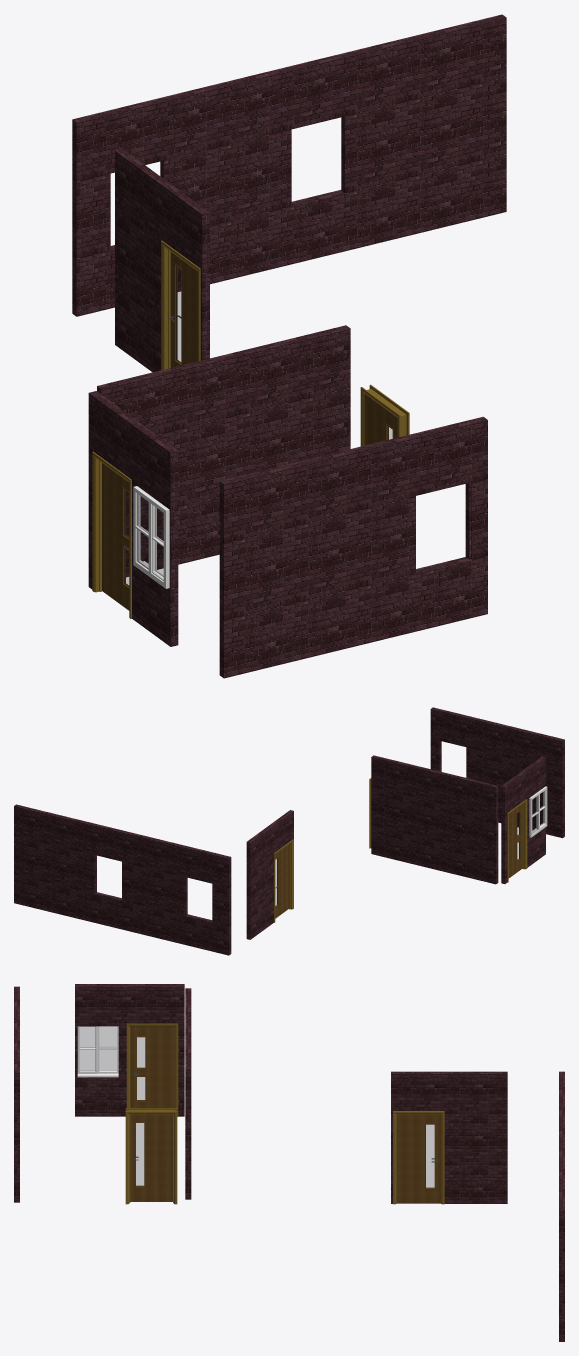
3 views of the same model, one above another, from view 1: azimuth 30°, elevation 25°; view 2: azimuth 150°, elevation 25°; view 3: azimuth 270°, elevation 25° (orthographic). The views are drawn at different scales.
Parts seen in each view (by area): view 1: Basic Wall Wall-Ext_215Bwk [620913]001, Basic Wall Wall-Ext_215Bwk [353285]001, Basic Wall Wall-Ext_215Bwk [353021]001, Basic Wall Wall-Ext_215Bwk [620583]001, Basic Wall Wall-Ext_215Bwk [353094]001, Doors_IntSgl_3 1010x2110mm [627399]001, Doors_IntSgl_2 1010x2110mm [621646]001, Windows_SCO_Horz_Bar_Dbl 910x1210mm [638051]001, Doors_IntSgl_2 1010x2110mm [626004]001; view 2: Basic Wall Wall-Ext_215Bwk [620913]001, Basic Wall Wall-Ext_215Bwk [353021]001, Basic Wall Wall-Ext_215Bwk [353285]001, Basic Wall Wall-Ext_215Bwk [620583]001, Basic Wall Wall-Ext_215Bwk [353094]001, Doors_IntSgl_3 1010x2110mm [627399]001, Doors_IntSgl_2 1010x2110mm [621646]001, Windows_SCO_Horz_Bar_Dbl 910x1210mm [638051]001; view 3: Basic Wall Wall-Ext_215Bwk [620583]001, Basic Wall Wall-Ext_215Bwk [353094]001, Doors_IntSgl_2 1010x2110mm [626004]001, Doors_IntSgl_2 1010x2110mm [621646]001, Doors_IntSgl_3 1010x2110mm [627399]001, Windows_SCO_Horz_Bar_Dbl 910x1210mm [638051]001, Basic Wall Wall-Ext_215Bwk [620913]001, Basic Wall Wall-Ext_215Bwk [353021]001, Basic Wall Wall-Ext_215Bwk [353285]001.
Boxes of the visible parts, x1=… form: Basic Wall Wall-Ext_215Bwk [620913]001: x1=72, y1=14, x2=506, y2=316; Basic Wall Wall-Ext_215Bwk [353285]001: x1=219, y1=416, x2=487, y2=678; Basic Wall Wall-Ext_215Bwk [353021]001: x1=97, y1=325, x2=350, y2=577; Basic Wall Wall-Ext_215Bwk [620583]001: x1=115, y1=149, x2=209, y2=372; Basic Wall Wall-Ext_215Bwk [353094]001: x1=88, y1=391, x2=178, y2=646; Doors_IntSgl_3 1010x2110mm [627399]001: x1=92, y1=451, x2=131, y2=618; Doors_IntSgl_2 1010x2110mm [621646]001: x1=161, y1=240, x2=200, y2=370; Windows_SCO_Horz_Bar_Dbl 910x1210mm [638051]001: x1=133, y1=486, x2=169, y2=588; Doors_IntSgl_2 1010x2110mm [626004]001: x1=360, y1=384, x2=409, y2=446; Basic Wall Wall-Ext_215Bwk [620913]001: x1=14, y1=804, x2=231, y2=955; Basic Wall Wall-Ext_215Bwk [353021]001: x1=371, y1=755, x2=498, y2=884; Basic Wall Wall-Ext_215Bwk [353285]001: x1=430, y1=707, x2=564, y2=838; Basic Wall Wall-Ext_215Bwk [620583]001: x1=246, y1=810, x2=293, y2=939; Basic Wall Wall-Ext_215Bwk [353094]001: x1=501, y1=756, x2=545, y2=883; Doors_IntSgl_3 1010x2110mm [627399]001: x1=507, y1=799, x2=527, y2=882; Doors_IntSgl_2 1010x2110mm [621646]001: x1=274, y1=839, x2=293, y2=922; Windows_SCO_Horz_Bar_Dbl 910x1210mm [638051]001: x1=529, y1=786, x2=547, y2=837; Basic Wall Wall-Ext_215Bwk [620583]001: x1=391, y1=1071, x2=507, y2=1203; Basic Wall Wall-Ext_215Bwk [353094]001: x1=75, y1=984, x2=184, y2=1116; Doors_IntSgl_2 1010x2110mm [626004]001: x1=125, y1=1108, x2=177, y2=1204; Doors_IntSgl_2 1010x2110mm [621646]001: x1=393, y1=1111, x2=444, y2=1204; Doors_IntSgl_3 1010x2110mm [627399]001: x1=126, y1=1023, x2=178, y2=1116; Windows_SCO_Horz_Bar_Dbl 910x1210mm [638051]001: x1=77, y1=1026, x2=118, y2=1077; Basic Wall Wall-Ext_215Bwk [620913]001: x1=559, y1=1071, x2=564, y2=1341; Basic Wall Wall-Ext_215Bwk [353021]001: x1=185, y1=988, x2=191, y2=1199; Basic Wall Wall-Ext_215Bwk [353285]001: x1=14, y1=986, x2=19, y2=1202.
Bounding box in the file's own units: 11.34 × 3 × 11.53.
8 materials, 4 textured.
